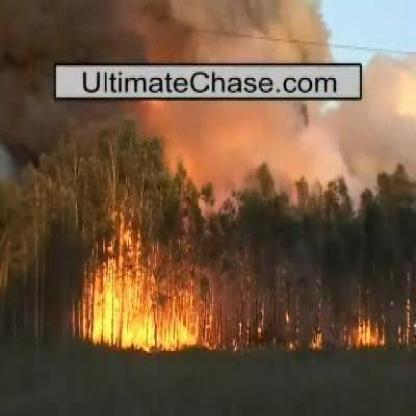-: (30, 10, 320, 58), (220, 104, 383, 171)
foggia-v2-map80-epoch100 - v1 4323: (96, 264, 154, 347)
